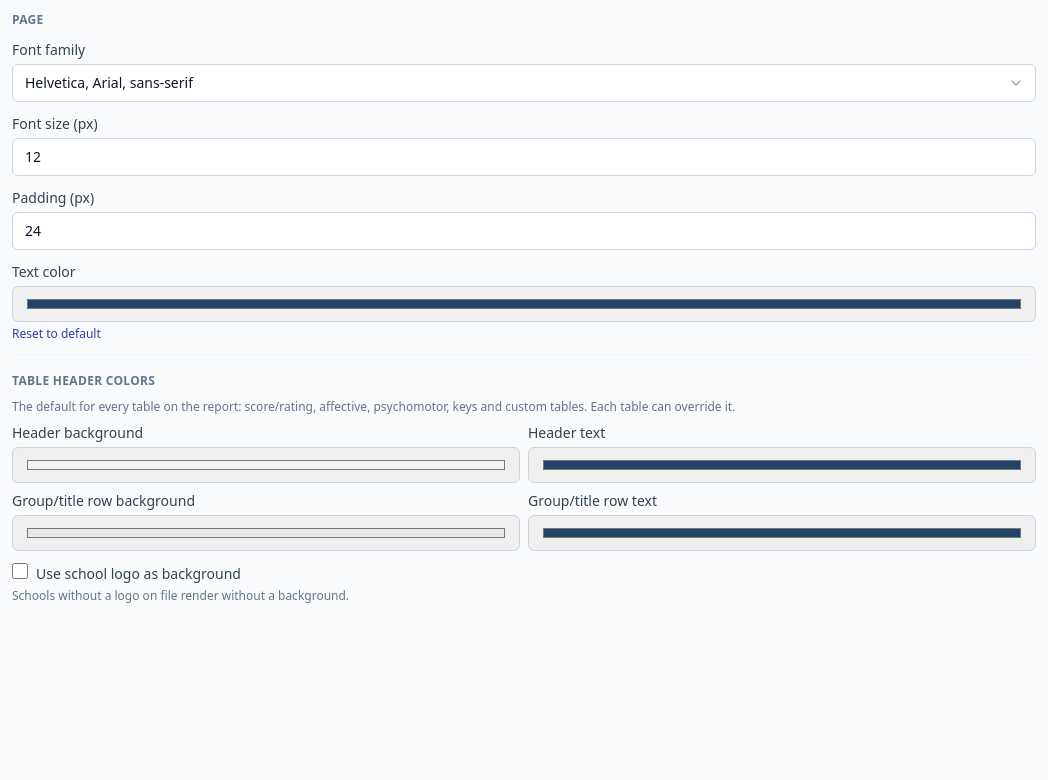
it: InspectorPanel color reset › page text color can be reset to the starter default
Expected: the colour field labelled "Text color" holds "#224466", top-left (12, 286), bottom-right (1036, 322)
Click the button "Reset to default".
click(56, 334)  # box top-left (12, 326), bottom-right (101, 342)
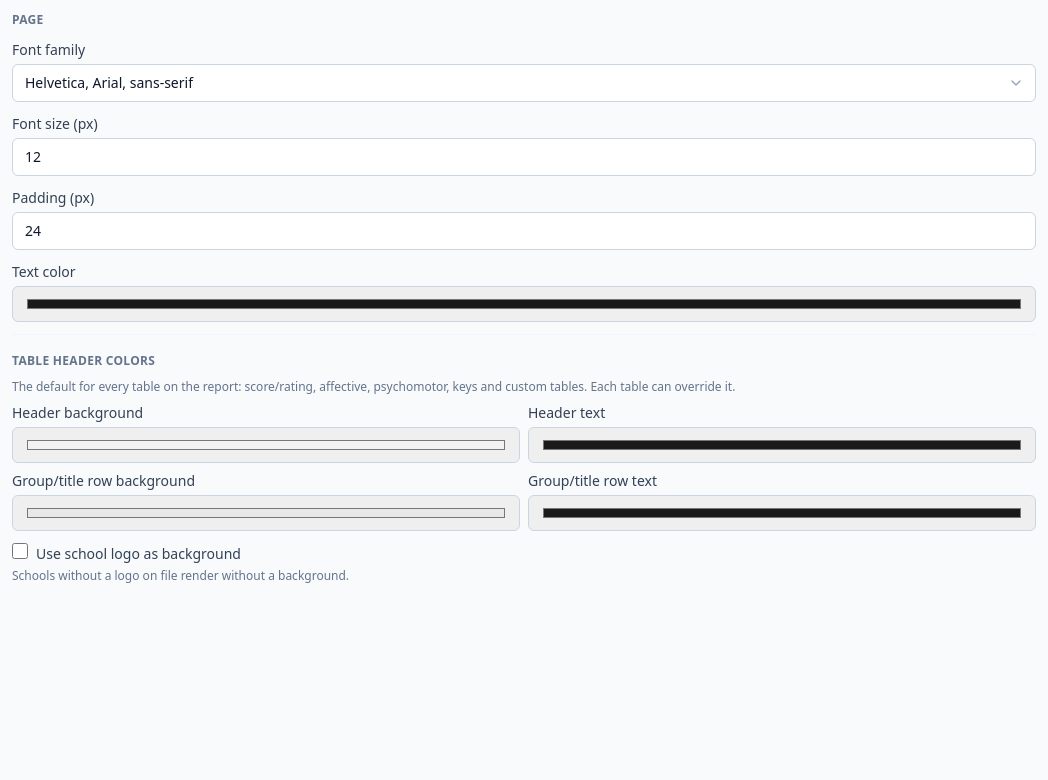
Now the button "Reset to default" is gone
